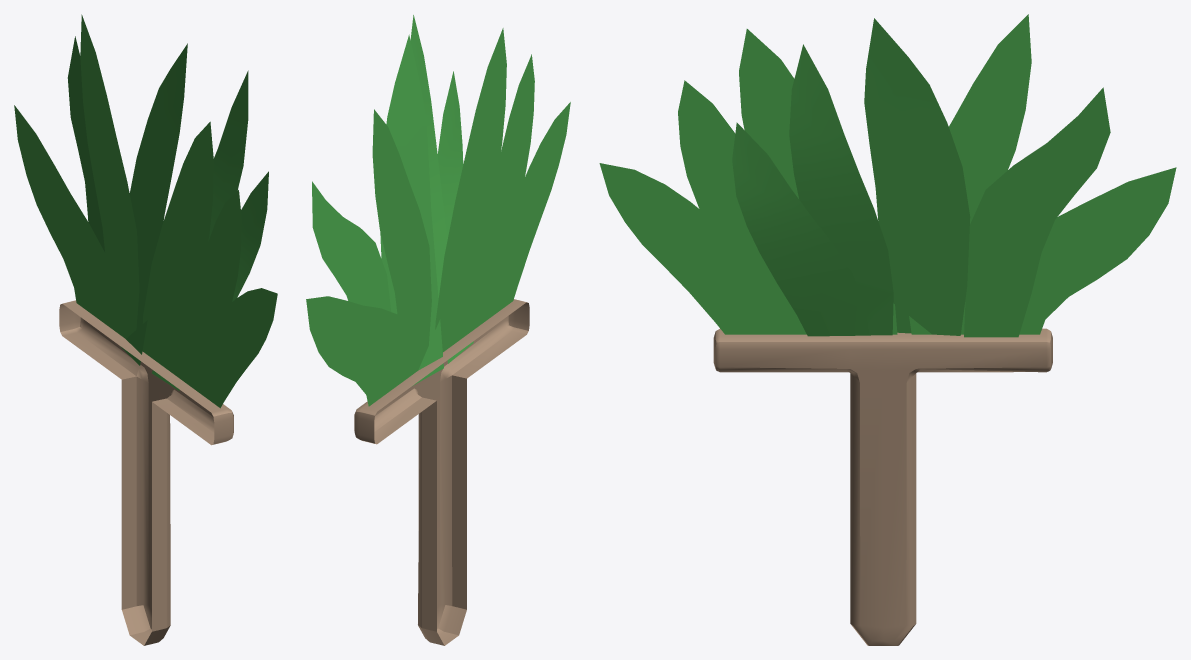
File: M_flip_grassClump2.fbx
3 renders of one model, left to right at view 1: azimuth 30°, elevation 25°; view 2: azimuth 150°, elevation 25°; view 3: azimuth 270°, elevation 25°, orthographic. The views are drawn at different scales.
Visible parts, largest first — view 1: stick2, grassBladeMid2, grassBladeMid5, grassBladeMid1, grassBladeMid8, grassBladeMid7, grassBladeMid3, grassBladeShort1, grassBladeShort3, grassBladeShort5; view 2: stick2, grassBladeMid2, grassBladeMid5, grassBladeMid8, grassBladeMid1, grassBladeMid7, grassBladeMid3, grassBladeShort3, grassBladeShort1, grassBladeShort5; view 3: stick2, grassBladeMid1, grassBladeShort3, grassBladeShort1, grassBladeShort5, grassBladeMid3, grassBladeMid8, grassBladeMid5, grassBladeMid7, grassBladeMid2.
Part boxes in pixels (x1,y1,x2,y2): stick2: (59,300,233,645); grassBladeMid2: (142,121,213,375); grassBladeMid5: (80,14,139,338); grassBladeMid1: (120,43,187,365); grassBladeMid8: (14,105,113,325); grassBladeMid7: (176,190,241,393); grassBladeMid3: (196,288,277,408); grassBladeShort1: (208,70,248,240); grassBladeShort3: (67,36,104,251); grassBladeShort5: (152,171,268,390); stick2: (354,299,529,645); grassBladeMid2: (435,28,506,352); grassBladeMid5: (372,109,431,382); grassBladeMid8: (306,296,406,406); grassBladeMid1: (380,34,443,385); grassBladeMid7: (469,54,534,332); grassBladeMid3: (489,102,570,318); grassBladeShort3: (312,181,391,311); grassBladeShort1: (410,15,447,297); grassBladeShort5: (437,71,473,363); stick2: (713,328,1052,645); grassBladeMid1: (864,18,970,335); grassBladeShort3: (964,87,1110,337); grassBladeShort1: (789,44,893,335); grassBladeShort5: (732,122,869,336); grassBladeMid3: (599,163,777,334); grassBladeMid8: (961,167,1176,334); grassBladeMid5: (909,14,1031,334); grassBladeMid7: (678,80,806,334); grassBladeMid2: (739,29,897,334).
Size of the model in its own units: 3.32 by 24.96 by 20.24.
